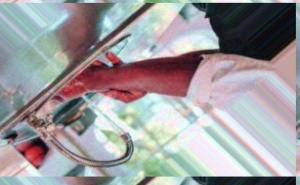washing hand: (15, 22, 218, 184)
